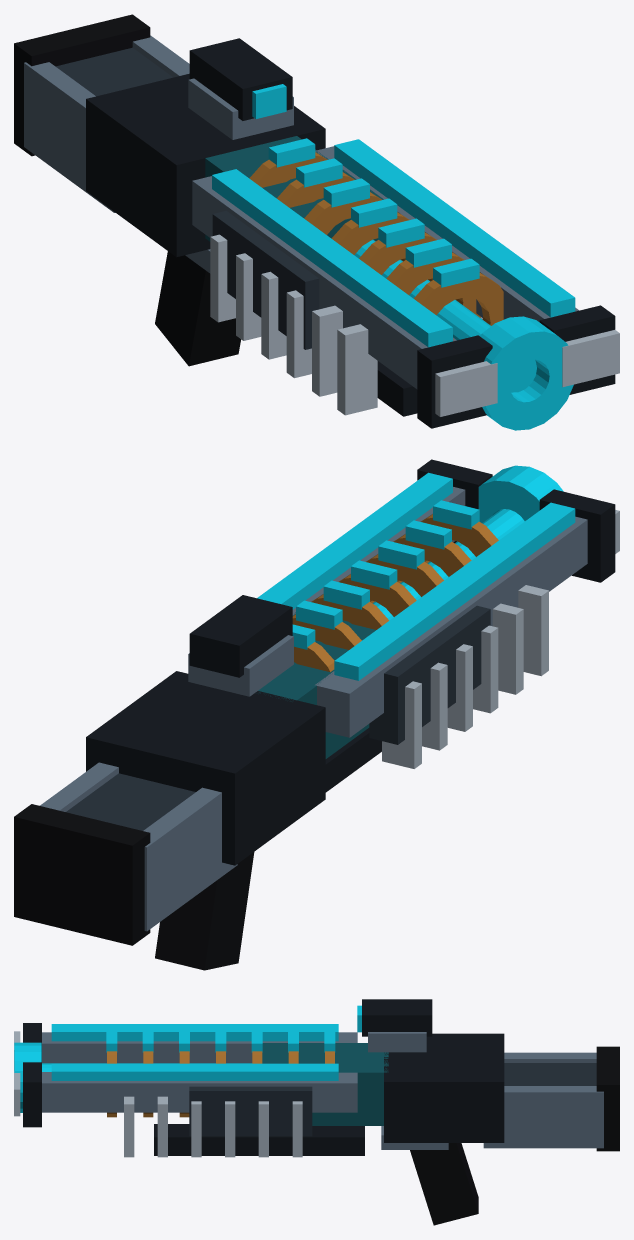
Rendered from TPS_Railgun_Original.obj.
3 renders of one model, top to bottom at view 1: azimuth 30°, elevation 25°; view 2: azimuth 150°, elevation 25°; view 3: azimuth 270°, elevation 25°, orthographic. The views are drawn at different scales.
Parts seen in each view (by area): view 1: 004_RearCore_MAT_BLACK, 012_L_RailAccent_MAT_CYAN, 023_R_RailAccent_MAT_CYAN, 034_CoilEmitterFront_MAT_CYAN, 011_L_LongRail_MAT_STEEL, 001_StockBrace_Left_MAT_STEEL, 006_PistolGrip_MAT_RUBBER, 015_L_RailSideShield_MAT_DARK, 003_BackPlate_MAT_RUBBER, 050_TopDigitalSight_MAT_BLACK, 013_L_RailTip_MAT_BLACK, 021_L_CoolingFin_5_MAT_SILVER (+30 smaller); view 2: 004_RearCore_MAT_BLACK, 003_BackPlate_MAT_RUBBER, 011_L_LongRail_MAT_STEEL, 012_L_RailAccent_MAT_CYAN, 001_StockBrace_Left_MAT_STEEL, 006_PistolGrip_MAT_RUBBER, 023_R_RailAccent_MAT_CYAN, 015_L_RailSideShield_MAT_DARK, 050_TopDigitalSight_MAT_BLACK, 000_EnergyStock_MAT_DARK, 013_L_RailTip_MAT_BLACK, 034_CoilEmitterFront_MAT_CYAN (+26 smaller); view 3: 004_RearCore_MAT_BLACK, 022_R_LongRail_MAT_STEEL, 002_StockBrace_Right_MAT_STEEL, 023_R_RailAccent_MAT_CYAN, 026_R_RailSideShield_MAT_DARK, 005_MainEmitter_MAT_TEAL, 012_L_RailAccent_MAT_CYAN, 011_L_LongRail_MAT_STEEL, 010_CoolantLower_MAT_BLACK, 006_PistolGrip_MAT_RUBBER, 050_TopDigitalSight_MAT_BLACK, 000_EnergyStock_MAT_DARK (+13 smaller).
Part boxes in pixels (x1,y1,x2,y2): 004_RearCore_MAT_BLACK: [86, 73, 325, 257]; 012_L_RailAccent_MAT_CYAN: [212, 169, 452, 347]; 023_R_RailAccent_MAT_CYAN: [334, 139, 575, 317]; 034_CoilEmitterFront_MAT_CYAN: [480, 316, 573, 430]; 011_L_LongRail_MAT_STEEL: [192, 176, 456, 389]; 001_StockBrace_Left_MAT_STEEL: [24, 62, 115, 212]; 006_PistolGrip_MAT_RUBBER: [155, 251, 240, 366]; 015_L_RailSideShield_MAT_DARK: [212, 210, 319, 349]; 003_BackPlate_MAT_RUBBER: [14, 14, 150, 156]; 050_TopDigitalSight_MAT_BLACK: [189, 38, 292, 120]; 013_L_RailTip_MAT_BLACK: [417, 335, 492, 428]; 021_L_CoolingFin_5_MAT_SILVER: [337, 324, 377, 415]; 004_RearCore_MAT_BLACK: [86, 671, 325, 865]; 003_BackPlate_MAT_RUBBER: [14, 804, 150, 945]; 011_L_LongRail_MAT_STEEL: [315, 516, 587, 737]; 012_L_RailAccent_MAT_CYAN: [334, 502, 575, 680]; 001_StockBrace_Left_MAT_STEEL: [143, 787, 237, 931]; 006_PistolGrip_MAT_RUBBER: [155, 852, 254, 970]; 023_R_RailAccent_MAT_CYAN: [257, 472, 452, 609]; 015_L_RailSideShield_MAT_DARK: [369, 605, 490, 744]; 050_TopDigitalSight_MAT_BLACK: [189, 595, 292, 677]; 000_EnergyStock_MAT_DARK: [66, 773, 195, 830]; 013_L_RailTip_MAT_BLACK: [539, 489, 615, 582]; 034_CoilEmitterFront_MAT_CYAN: [478, 465, 563, 522]; 004_RearCore_MAT_BLACK: [384, 1033, 504, 1142]; 022_R_LongRail_MAT_STEEL: [42, 1072, 357, 1112]; 002_StockBrace_Right_MAT_STEEL: [483, 1086, 603, 1148]; 023_R_RailAccent_MAT_CYAN: [51, 1063, 338, 1080]; 026_R_RailSideShield_MAT_DARK: [189, 1086, 312, 1136]; 005_MainEmitter_MAT_TEAL: [262, 1043, 388, 1125]; 012_L_RailAccent_MAT_CYAN: [51, 1024, 338, 1041]; 011_L_LongRail_MAT_STEEL: [42, 1032, 357, 1063]; 010_CoolantLower_MAT_BLACK: [154, 1124, 364, 1155]; 006_PistolGrip_MAT_RUBBER: [410, 1143, 478, 1225]; 050_TopDigitalSight_MAT_BLACK: [362, 999, 432, 1036]; 000_EnergyStock_MAT_DARK: [504, 1063, 596, 1085].
Bounding box in the file's own units: 0.533 × 0.7912 × 2.07.
